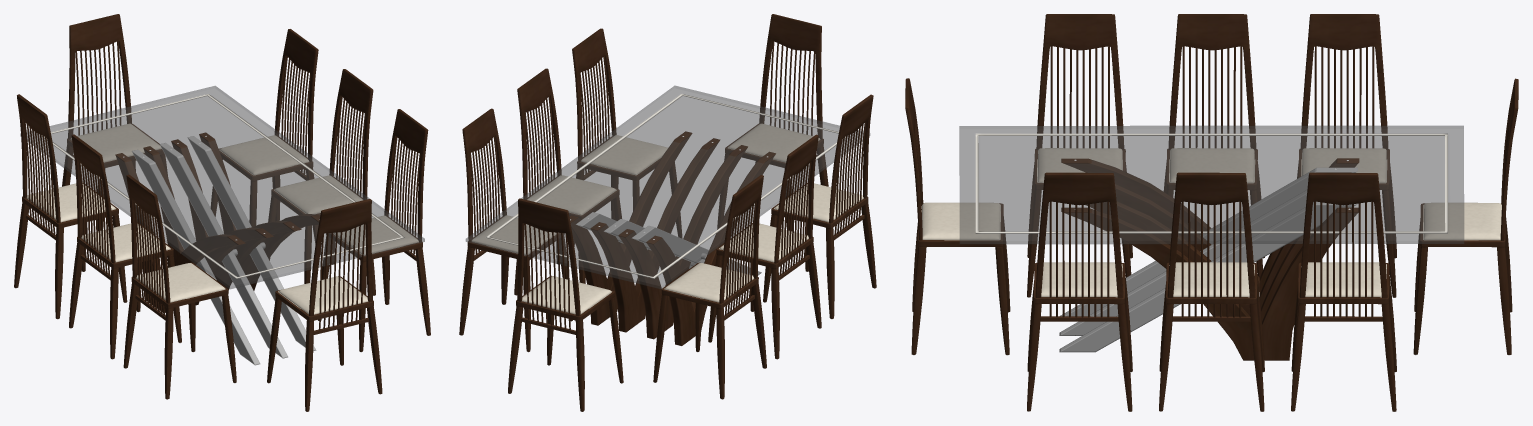
Rendered from glass-dining-set.glb.
3 views of the same model, side by side, from view 1: azimuth 30°, elevation 25°; view 2: azimuth 150°, elevation 25°; view 3: azimuth 270°, elevation 25° (orthographic). The views are drawn at different scales.
Parts seen in each view (by area): view 1: Table, Chair, Chair.006, Chair.001, Chair.003, Chair.004, Chair.005, Chair.007, Chair.002; view 2: Table, Chair.007, Chair.004, Chair.003, Chair, Chair.006, Chair.005, Chair.001, Chair.002; view 3: Table, Chair.001, Chair.002, Chair.003, Chair.006, Chair.004, Chair.005, Chair, Chair.007.
Boxes of the visible parts, x1=… form: Table: x1=20, y1=86, x2=424, y2=365; Chair: x1=267, y1=199, x2=382, y2=411; Chair.006: x1=123, y1=174, x2=236, y2=399; Chair.001: x1=318, y1=109, x2=430, y2=352; Chair.003: x1=210, y1=29, x2=321, y2=254; Chair.004: x1=14, y1=94, x2=127, y2=319; Chair.005: x1=69, y1=134, x2=181, y2=359; Chair.007: x1=62, y1=14, x2=167, y2=259; Chair.002: x1=263, y1=69, x2=375, y2=295; Table: x1=465, y1=85, x2=870, y2=345; Chair.007: x1=508, y1=198, x2=623, y2=411; Chair.004: x1=653, y1=175, x2=766, y2=399; Chair.003: x1=459, y1=108, x2=572, y2=352; Chair: x1=717, y1=14, x2=828, y2=259; Chair.006: x1=763, y1=94, x2=876, y2=319; Chair.005: x1=708, y1=134, x2=821, y2=359; Chair.001: x1=569, y1=28, x2=682, y2=253; Chair.002: x1=514, y1=68, x2=621, y2=295; Table: x1=959, y1=125, x2=1464, y2=360; Chair.001: x1=1027, y1=172, x2=1132, y2=411; Chair.002: x1=1159, y1=172, x2=1264, y2=411; Chair.003: x1=1291, y1=172, x2=1396, y2=411; Chair.006: x1=1027, y1=14, x2=1132, y2=297; Chair.004: x1=1297, y1=14, x2=1396, y2=297; Chair.005: x1=1163, y1=14, x2=1264, y2=291; Chair: x1=905, y1=78, x2=1010, y2=355; Chair.007: x1=1413, y1=78, x2=1518, y2=355.
Bounding box in the file's own units: 1.91 × 1.33 × 3.07.
9 materials, 9 textured.
